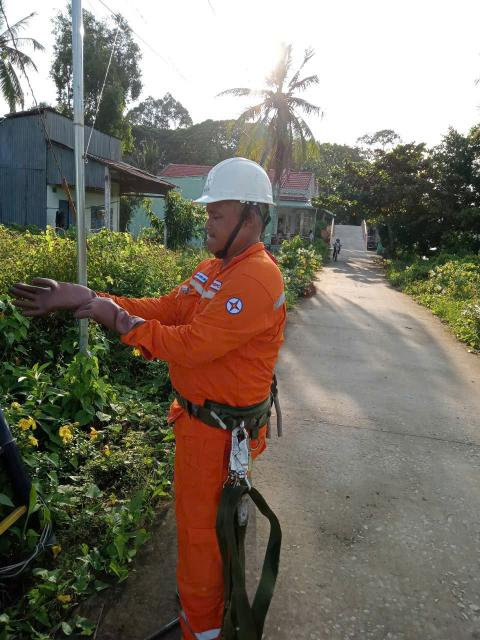gloves: (10, 262, 107, 319), (76, 291, 156, 342)
harness: (163, 370, 325, 449)
helmet: (193, 158, 286, 214)
